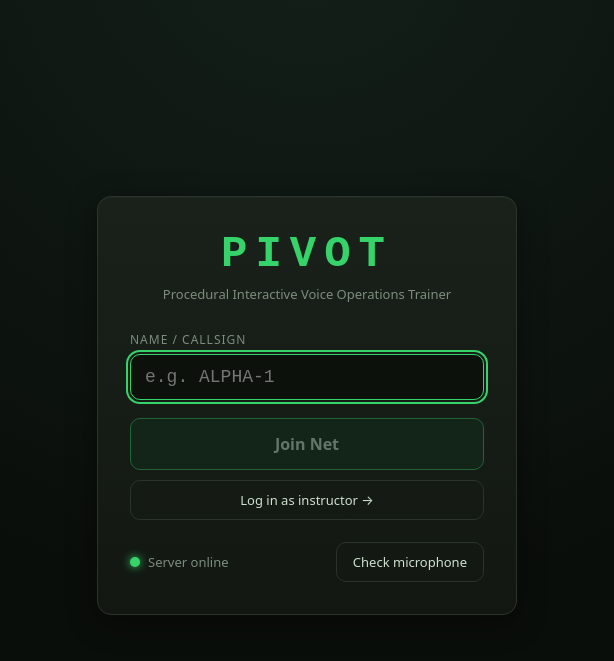
Test: Login › microphone checks › shows missing-mic hint when no microphone is found
Click the button "Check microphone" at coordinates (410, 562), box x1=336 y1=542 x2=484 y2=582
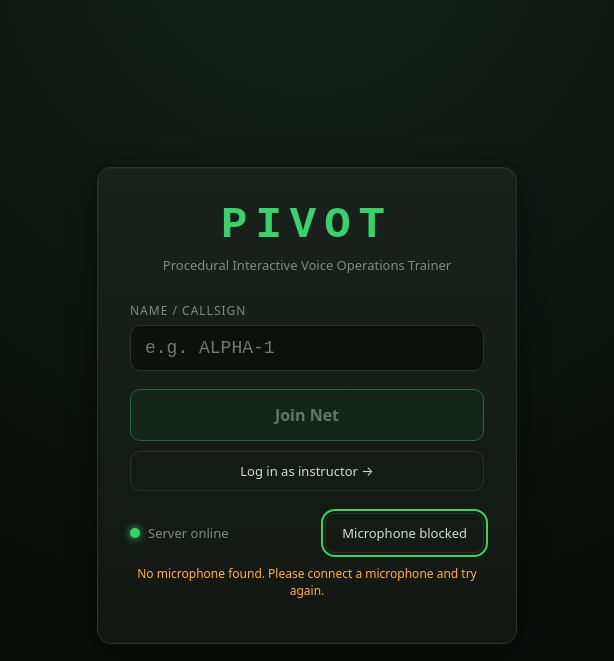
Check: the button "Microphone blocked" is shown, box x1=325 y1=512 x2=484 y2=552
Check: the text "No microphone found" is shown, box x1=137 y1=564 x2=477 y2=598
